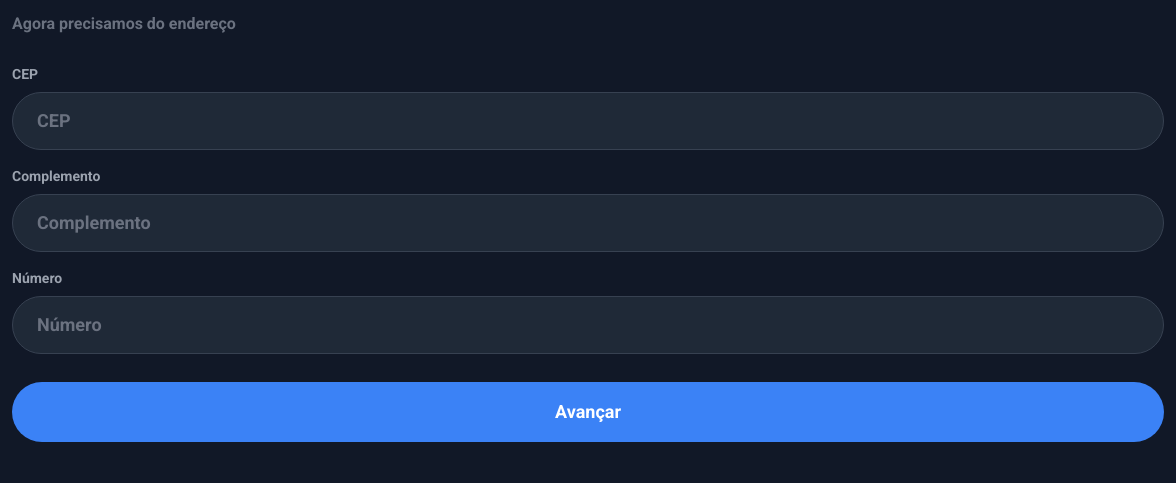
Test case: FormSchoolAddress › Should be CEP is invalid
The image size is (1176, 483).
Type "1" into the field with placeholder "CEP".
click(588, 121); type("1")  # box [12,92,1164,150]
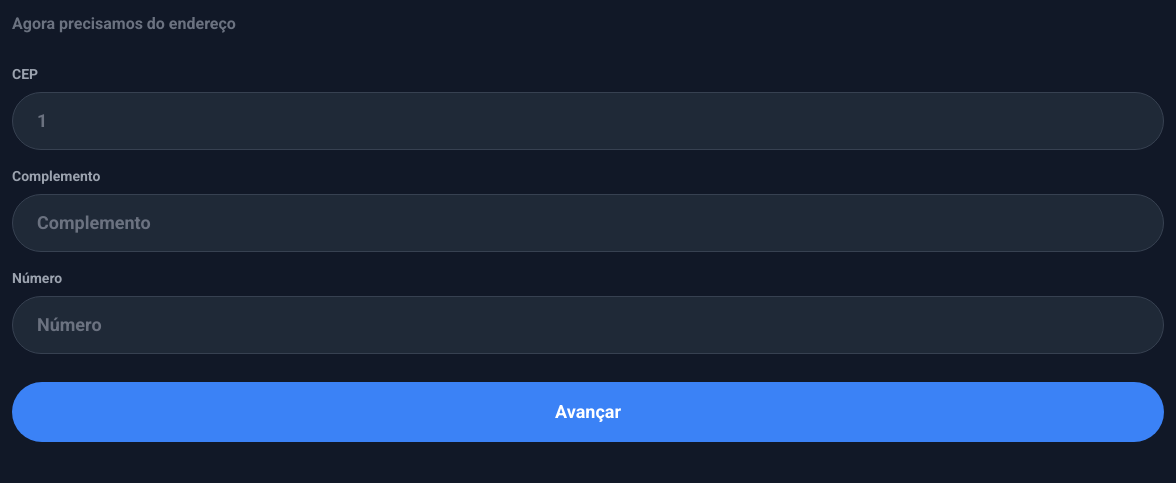
Click the button "Avançar".
click(588, 412)  # box [555,398,621,426]
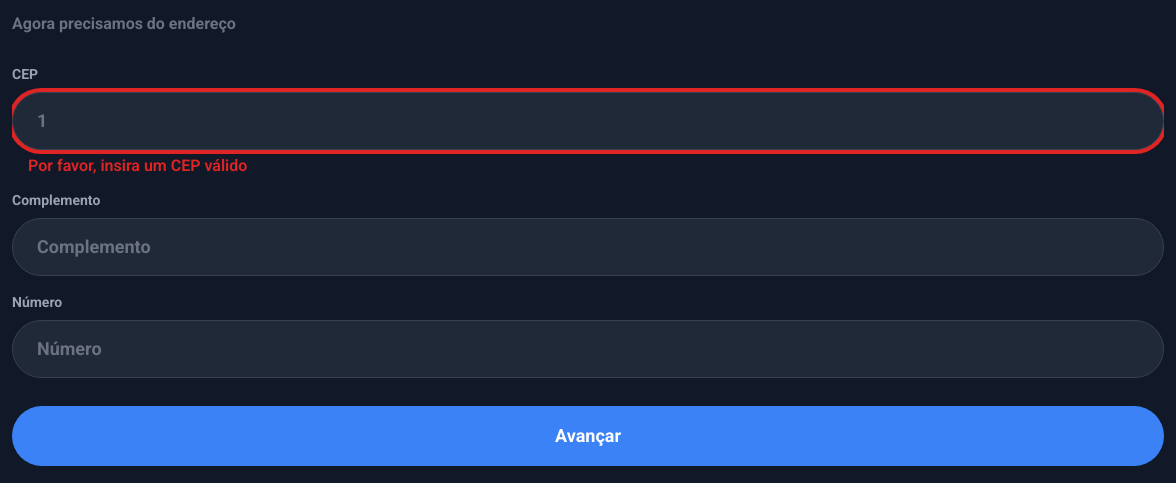
Now the text "Por favor, insira um CEP válido" is shown, box [28,156,247,175]
